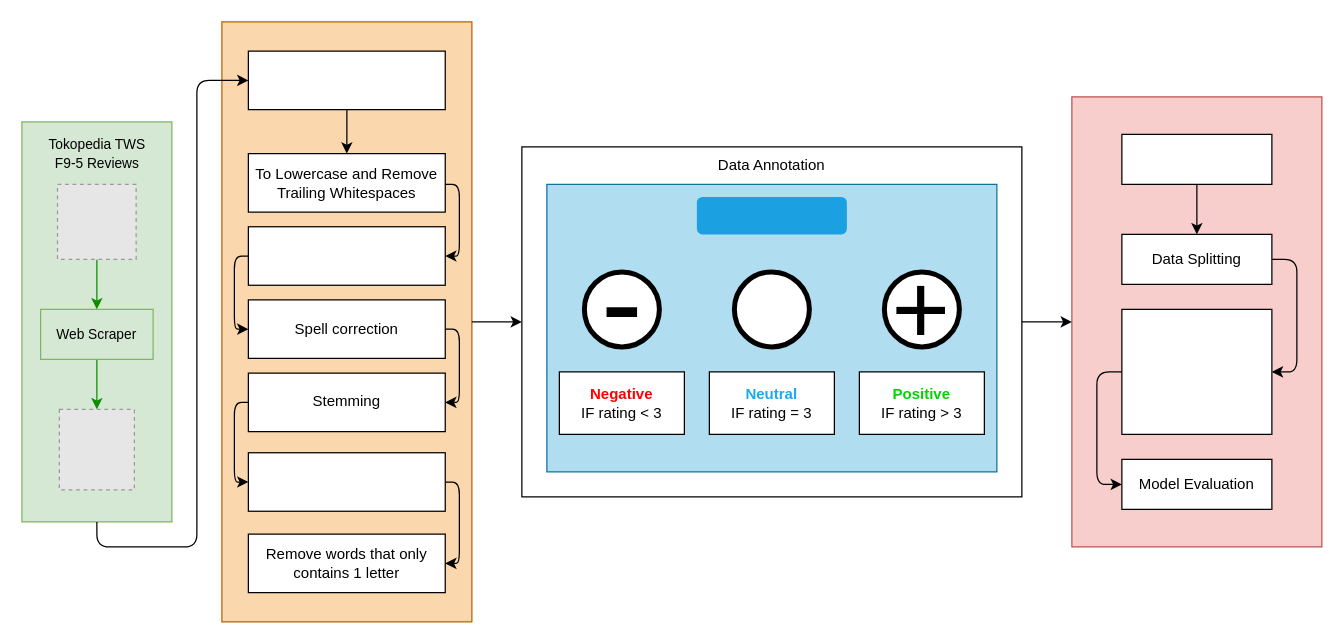
Some shapes in this 1344 by 644 pixel diagram are drawn without their labels. Grey dashed boxes stand in for pictures. The shapes that lost their labels are listed below. From the top down, each one's centre as x and y in pixels, then its label:
(x=346, y=80): Preprocessing
(x=1196, y=158): Modelling
(x=771, y=215): Sentiment Analysis
(x=346, y=255): Remove punctuation, special character, digit and emoji with regex
(x=1196, y=371): Transfer Learning and Fine Tuning Base Model: IndoBERT-base-p1
(x=346, y=481): Remove stopwords
